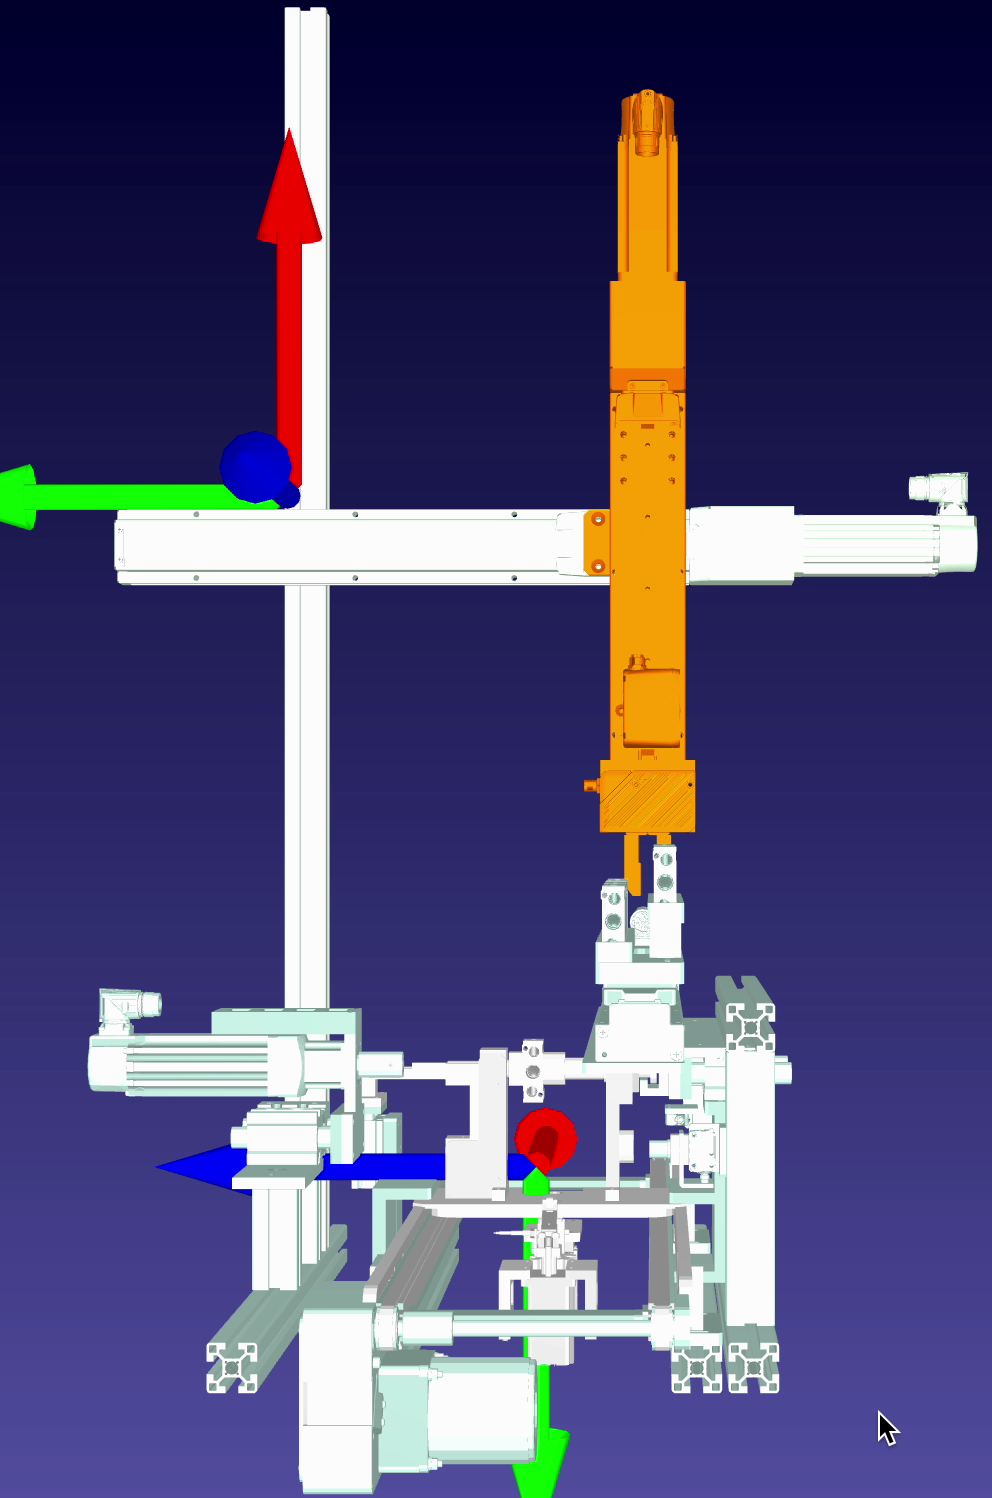Gripper: (595, 736, 697, 831)
